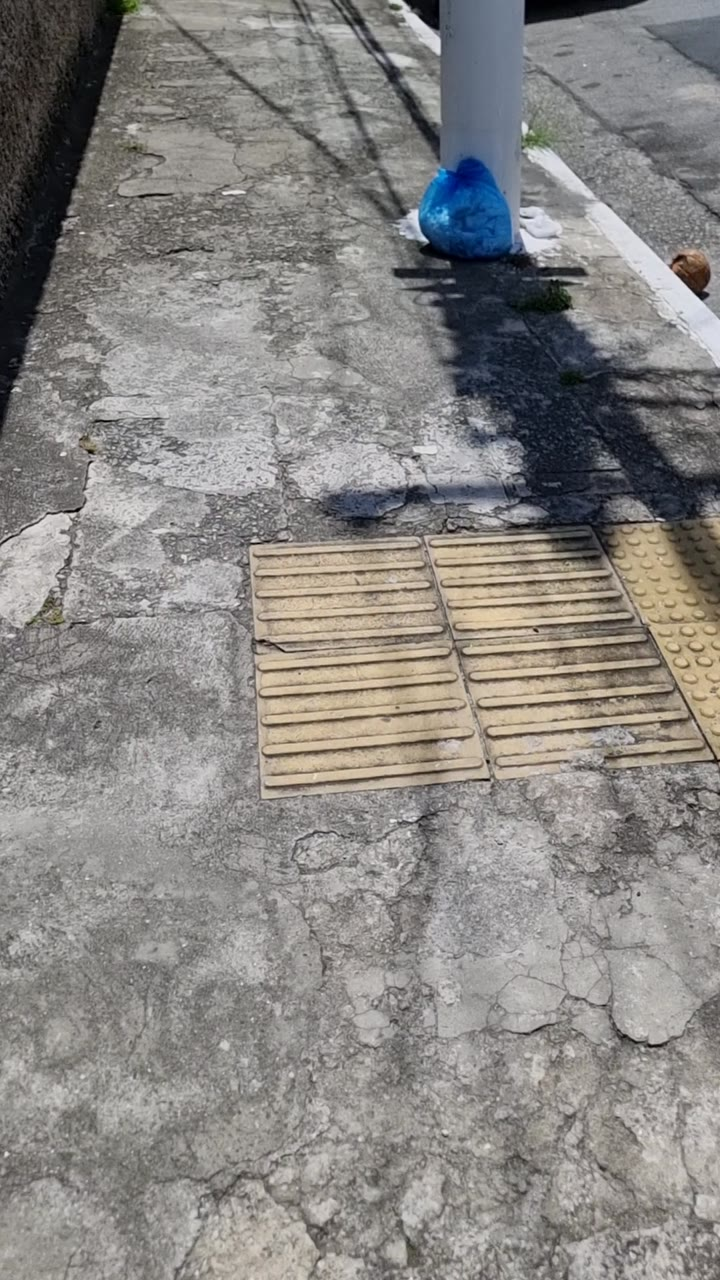obstaculo: (432, 0, 526, 256), (419, 157, 512, 260)
